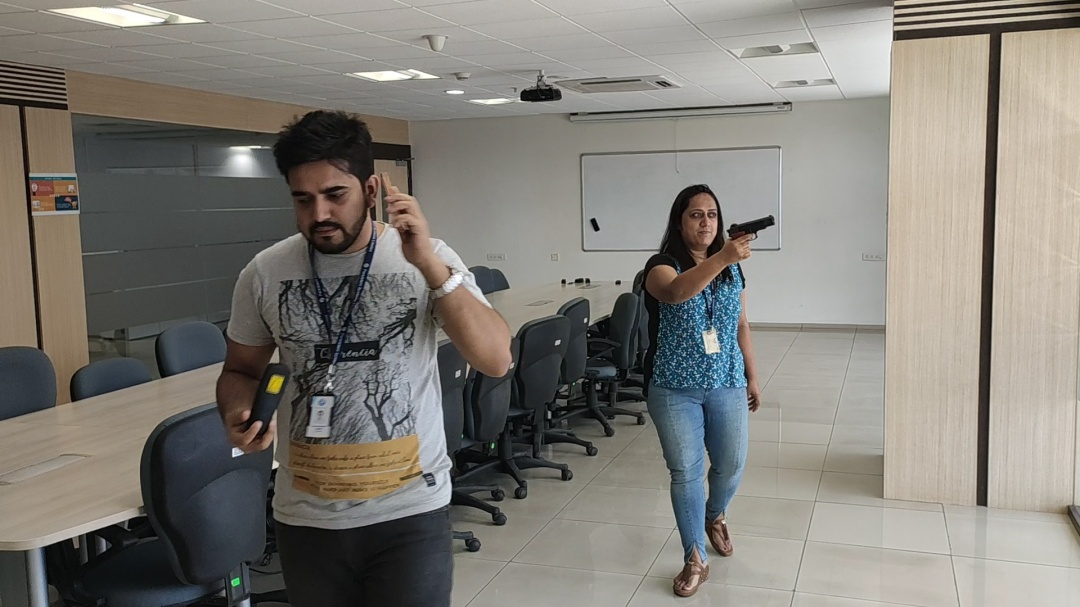gun: (727, 215, 776, 241)
